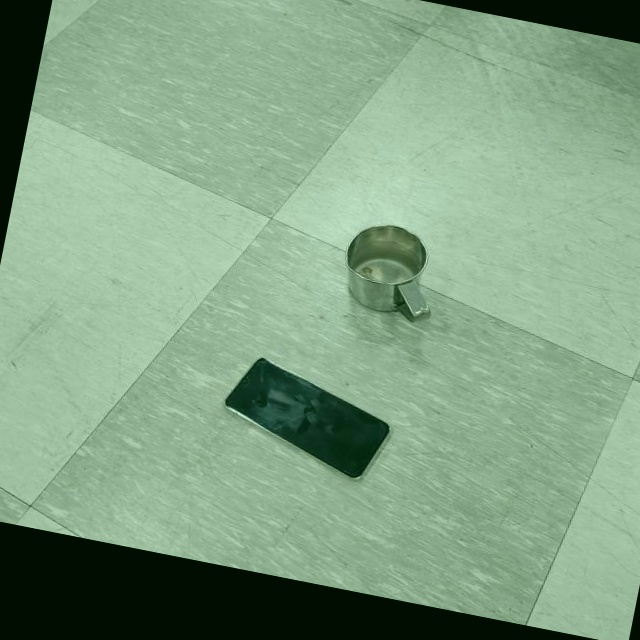cup: (336, 216, 447, 328)
phone: (212, 349, 403, 487)
